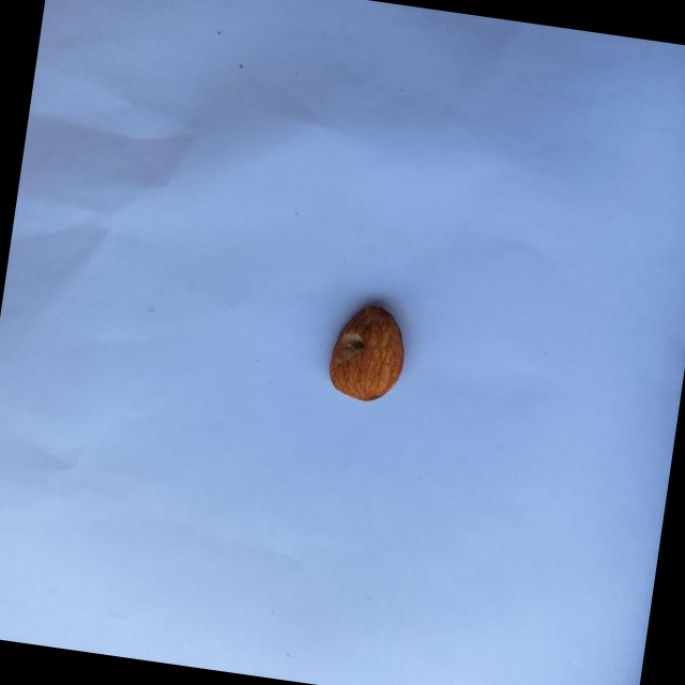grade3: (319, 295, 414, 410)
